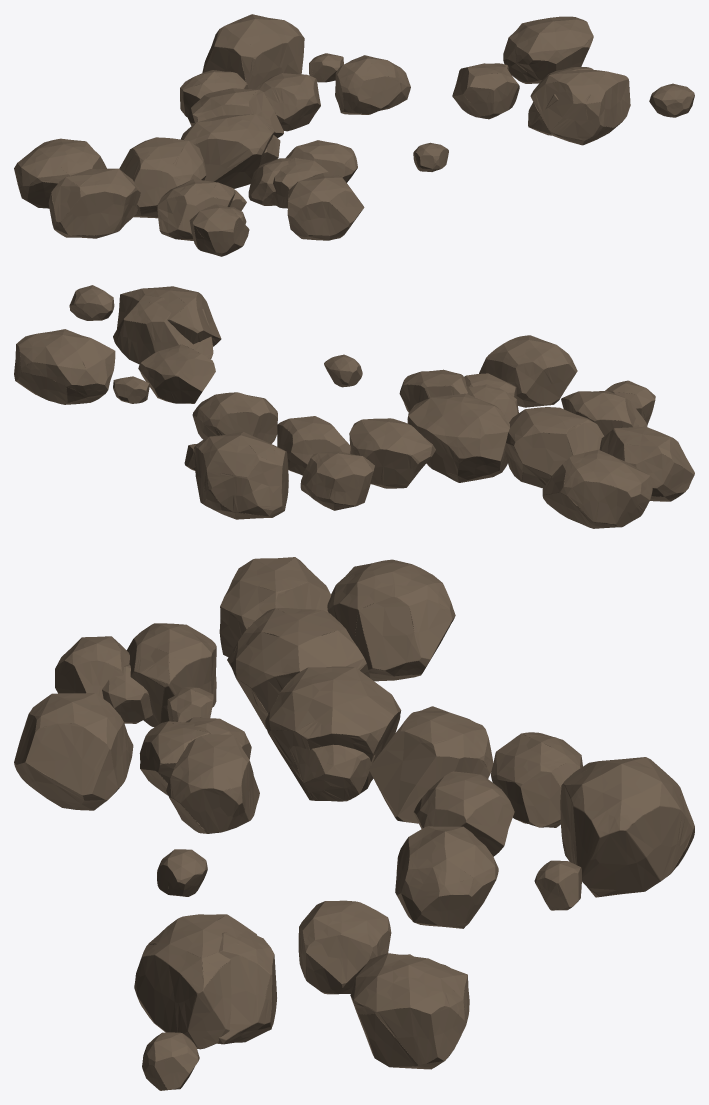
Rendered from SM_Scree_02.fbx.
3 views of the same model, one above another, from view 1: azimuth 30°, elevation 25°; view 2: azimuth 150°, elevation 25°; view 3: azimuth 270°, elevation 25° (orthographic). The views are drawn at different scales.
Parts seen in each view (by area): view 1: SM_Scree_02; view 2: SM_Scree_02; view 3: SM_Scree_02.
Part boxes in pixels (x1=…): SM_Scree_02: x1=14, y1=14, x2=694, y2=256; SM_Scree_02: x1=14, y1=285, x2=694, y2=528; SM_Scree_02: x1=14, y1=557, x2=694, y2=1090.
Size of the model in its own units: 370 by 221 by 44.07.
